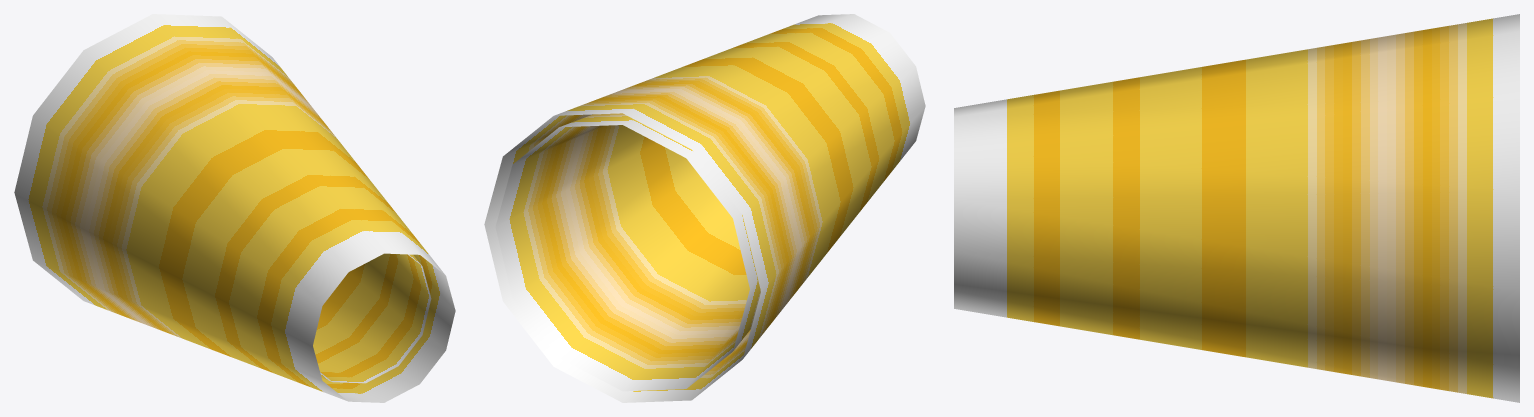
Rendered from patineta_fuego.FBX.
3 views of the same model, side by side, from view 1: azimuth 30°, elevation 25°; view 2: azimuth 150°, elevation 25°; view 3: azimuth 270°, elevation 25° (orthographic). The views are drawn at different scales.
Parts seen in each view (by area): view 1: Cylinder002; view 2: Cylinder002; view 3: Cylinder002.
Boxes of the visible parts, x1,y1,x2,y2 form: Cylinder002: (14, 14, 455, 402); Cylinder002: (484, 14, 925, 402); Cylinder002: (954, 14, 1519, 402).
Bounding box in the file's own units: 0.2971 × 0.2971 × 0.4306.
